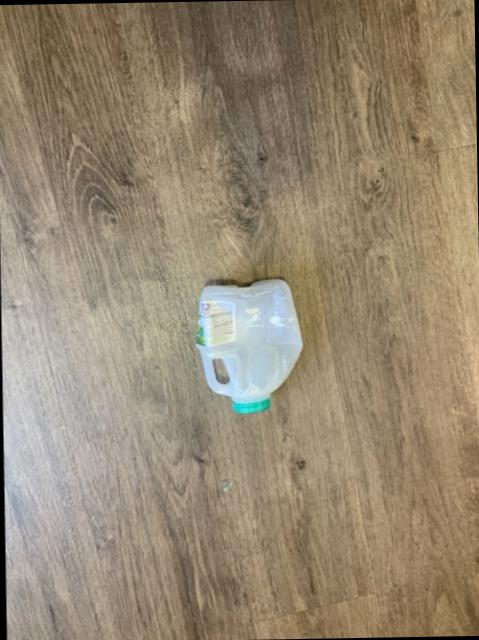plastic: (197, 280, 302, 413)
